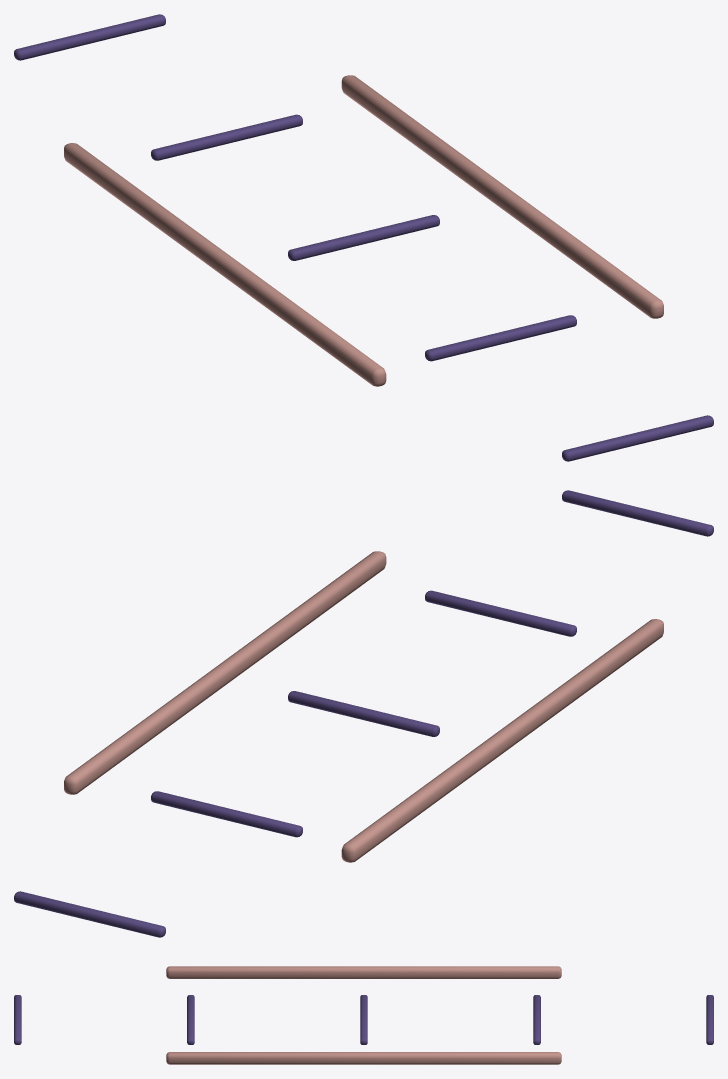
Rendered from music_rail.glb.
The picture shows the model from 3 angles, top to bottom: view 1: azimuth 30°, elevation 25°; view 2: azimuth 150°, elevation 25°; view 3: azimuth 270°, elevation 25°; orthographic projection. The views are drawn at different scales.
Visible parts, largest first — view 1: Rail_1.0, Rail_-1.0, Brace_-14.0, Brace_14.0, Brace_-7.0, Brace_7.0, Brace_0.0; view 2: Rail_1.0, Rail_-1.0, Brace_-14.0, Brace_14.0, Brace_-7.0, Brace_7.0, Brace_0.0; view 3: Rail_-1.0, Rail_1.0, Brace_-14.0, Brace_14.0, Brace_-7.0, Brace_0.0, Brace_7.0.
Part boxes in pixels (<box>): Rail_1.0: <box>341,75,663,318</box>; Rail_-1.0: <box>64,143,386,386</box>; Brace_-14.0: <box>562,415,713,461</box>; Brace_14.0: <box>14,14,165,60</box>; Brace_-7.0: <box>425,315,576,361</box>; Brace_7.0: <box>151,114,302,160</box>; Brace_0.0: <box>288,215,439,260</box>; Rail_1.0: <box>64,551,386,794</box>; Rail_-1.0: <box>341,619,663,862</box>; Brace_-14.0: <box>562,490,713,536</box>; Brace_14.0: <box>14,891,165,937</box>; Brace_-7.0: <box>425,590,576,636</box>; Brace_7.0: <box>151,791,302,837</box>; Brace_0.0: <box>288,691,439,736</box>; Rail_-1.0: <box>166,966,561,978</box>; Rail_1.0: <box>166,1052,561,1064</box>; Brace_-14.0: <box>14,995,21,1044</box>; Brace_14.0: <box>706,995,713,1044</box>; Brace_-7.0: <box>187,995,194,1044</box>; Brace_0.0: <box>360,995,367,1044</box>; Brace_7.0: <box>533,995,540,1044</box>.
Size of the model in its own units: 8.61 by 0.5875 by 28.31.
